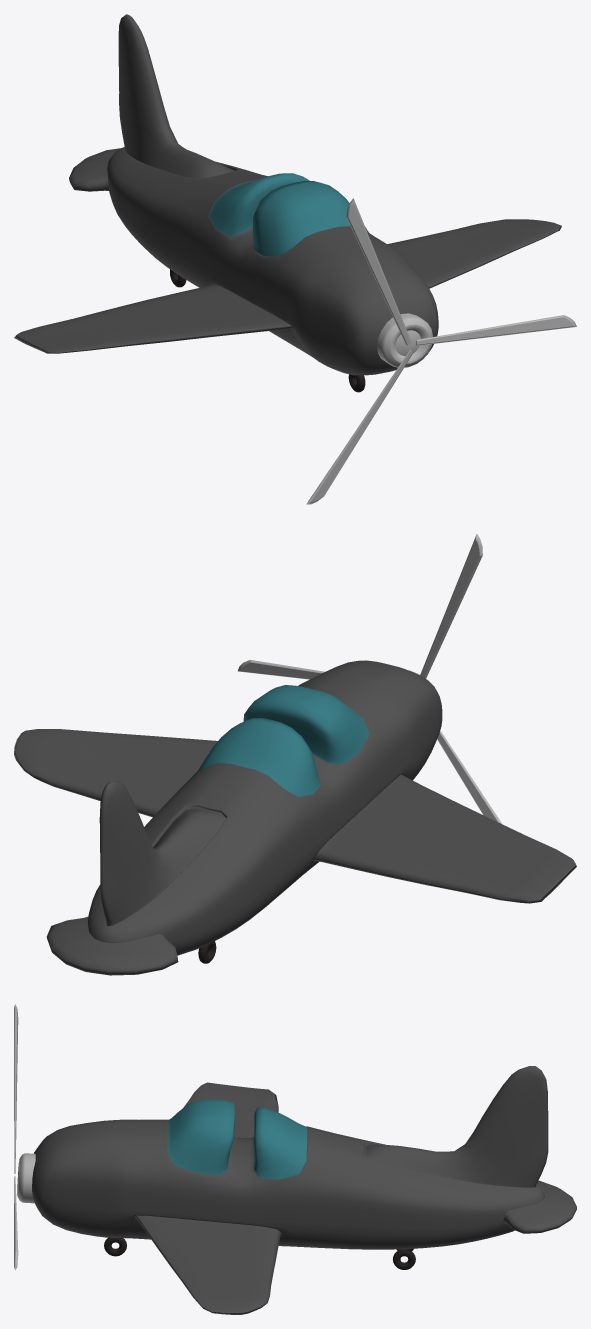
Rendered from Avion3new.obj.
3 renders of one model, top to bottom at view 1: azimuth 30°, elevation 25°; view 2: azimuth 150°, elevation 25°; view 3: azimuth 270°, elevation 25°, orthographic. The views are drawn at different scales.
Visible parts, largest first — view 1: CuerpoA3 Cuerpo_Avion3 Avion3, Cuerpo_Avion3 Avion3 polySurface3 ParabrisasA3, Cuerpo_Avion3 Avion3 ParabrisasA3 Parabrisas2, Cuerpo_Avion3 Avion3 Frente_Avion3, Avion3 Helice1_A3 Helices_A3, Avion3 Helices_A3 Helice3_A3, Avion3 Helices_A3 Helice2_A3; view 2: CuerpoA3 Cuerpo_Avion3 Avion3, Cuerpo_Avion3 Avion3 polySurface3 ParabrisasA3, Cuerpo_Avion3 Avion3 ParabrisasA3 Parabrisas2, Avion3 Helices_A3 Helice3_A3, Avion3 Helices_A3 Helice2_A3, Avion3 Helice1_A3 Helices_A3; view 3: CuerpoA3 Cuerpo_Avion3 Avion3, Cuerpo_Avion3 Avion3 polySurface3 ParabrisasA3, Cuerpo_Avion3 Avion3 ParabrisasA3 Parabrisas2, Cuerpo_Avion3 Avion3 Frente_Avion3, Avion3 Helices_A3 Helice3_A3.
Part boxes in pixels (x1,y1,x2,y2): CuerpoA3 Cuerpo_Avion3 Avion3: (14, 14, 561, 375); Cuerpo_Avion3 Avion3 polySurface3 ParabrisasA3: (252, 181, 368, 256); Cuerpo_Avion3 Avion3 ParabrisasA3 Parabrisas2: (209, 173, 309, 236); Cuerpo_Avion3 Avion3 Frente_Avion3: (377, 313, 432, 367); Avion3 Helice1_A3 Helices_A3: (416, 315, 576, 345); Avion3 Helices_A3 Helice3_A3: (346, 198, 411, 345); Avion3 Helices_A3 Helice2_A3: (306, 349, 413, 504); CuerpoA3 Cuerpo_Avion3 Avion3: (14, 660, 576, 975); Cuerpo_Avion3 Avion3 polySurface3 ParabrisasA3: (243, 685, 369, 764); Cuerpo_Avion3 Avion3 ParabrisasA3 Parabrisas2: (197, 718, 320, 796); Avion3 Helices_A3 Helice3_A3: (420, 534, 482, 678); Avion3 Helices_A3 Helice2_A3: (437, 730, 501, 823); Avion3 Helice1_A3 Helices_A3: (238, 660, 324, 679); CuerpoA3 Cuerpo_Avion3 Avion3: (32, 1066, 576, 1314); Cuerpo_Avion3 Avion3 polySurface3 ParabrisasA3: (167, 1099, 235, 1175); Cuerpo_Avion3 Avion3 ParabrisasA3 Parabrisas2: (254, 1107, 307, 1179); Cuerpo_Avion3 Avion3 Frente_Avion3: (17, 1153, 35, 1203); Avion3 Helices_A3 Helice3_A3: (14, 1004, 18, 1173).
Bounding box in the file's own units: 5.08 × 2.78 × 5.25.
